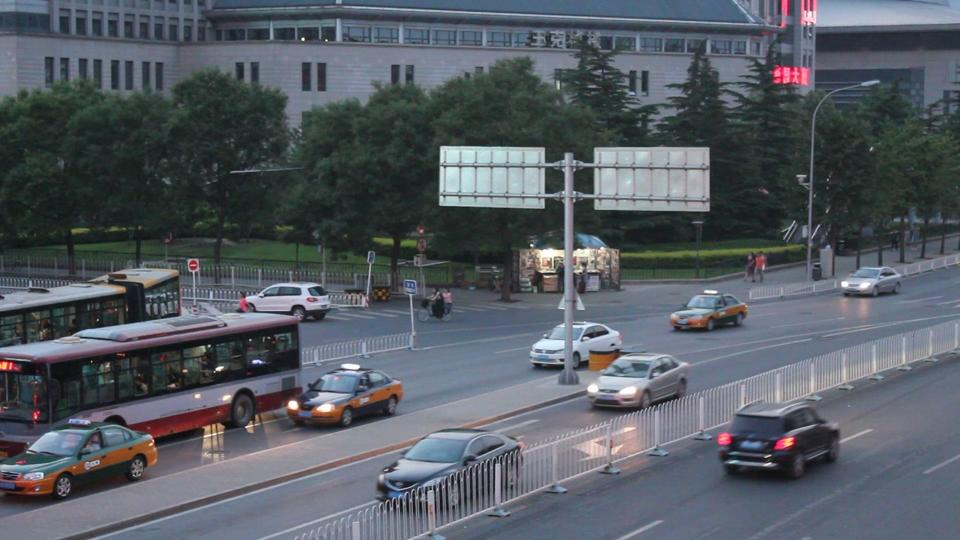Bus: (1, 314, 300, 459), (1, 267, 183, 349)
Car: (1, 415, 156, 497), (373, 424, 523, 508), (713, 398, 839, 475), (287, 359, 399, 428), (584, 352, 687, 409), (530, 319, 621, 369), (239, 279, 327, 323), (667, 289, 745, 333), (191, 309, 257, 349)
